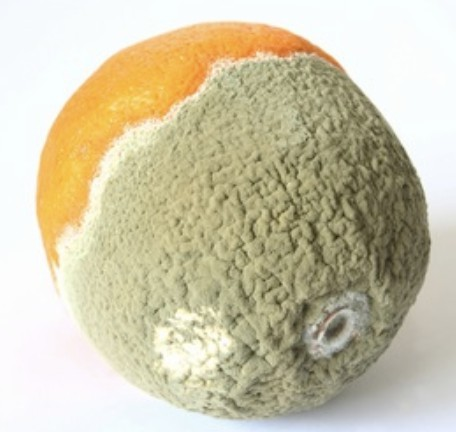rotten_orange: (36, 21, 431, 421)
